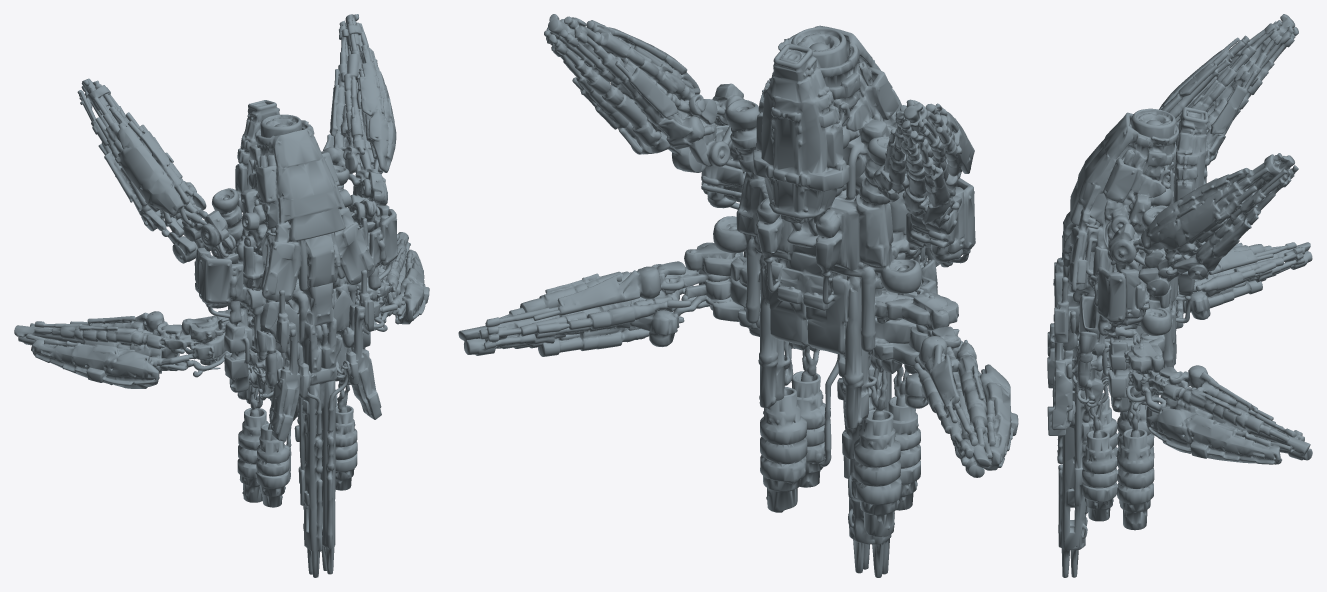
The model's file is K17_Drone_Static.glb.
3 renders of one model, left to right at view 1: azimuth 30°, elevation 25°; view 2: azimuth 150°, elevation 25°; view 3: azimuth 270°, elevation 25°, orthographic. The views are drawn at different scales.
Visible parts, largest first — view 1: K17_Drone; view 2: K17_Drone; view 3: K17_Drone.
Boxes of the visible parts, box(x1,y1,x2,y2) form: K17_Drone: box(14, 14, 429, 577); K17_Drone: box(458, 14, 1018, 577); K17_Drone: box(1047, 14, 1312, 577).
Size of the model in its own units: 1.73 by 1.9 by 0.9379.
